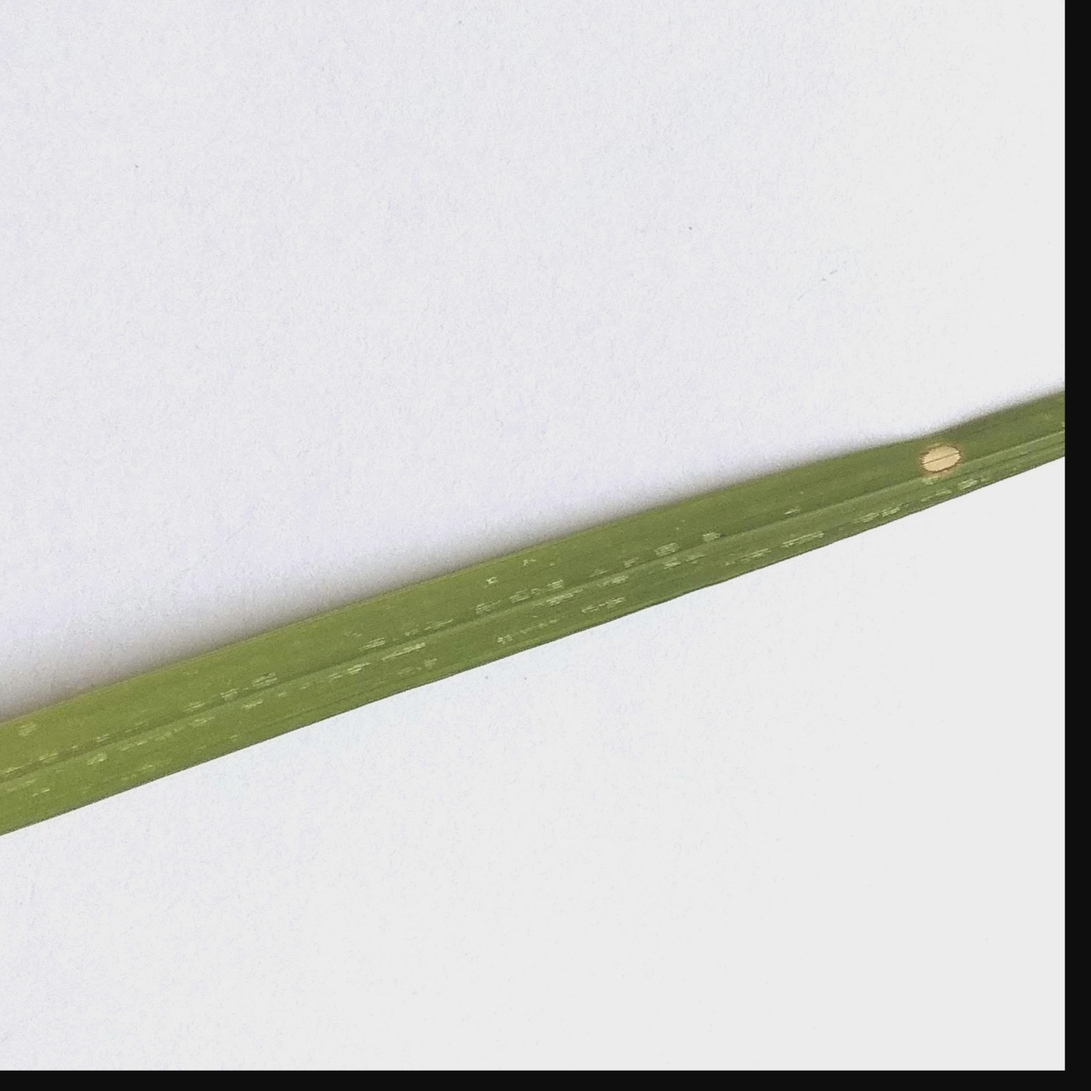Brown_Spot: (909, 426, 982, 478)
